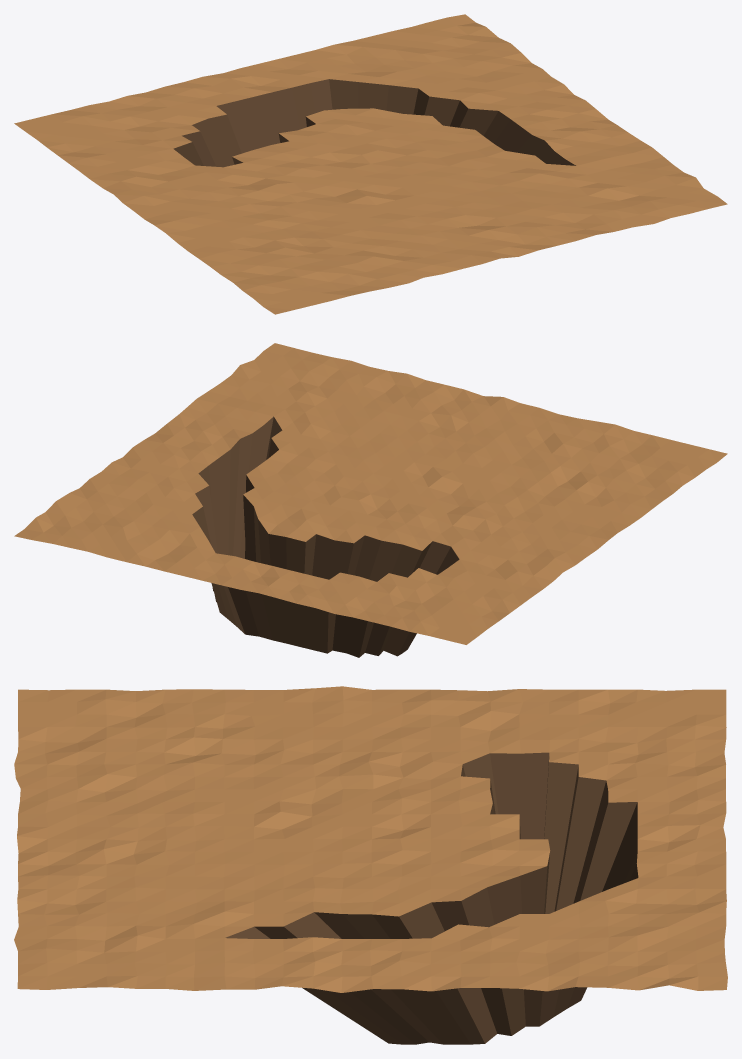
The model's file is Demo Desert.fbx.
3 renders of one model, top to bottom at view 1: azimuth 30°, elevation 25°; view 2: azimuth 150°, elevation 25°; view 3: azimuth 270°, elevation 25°, orthographic. The views are drawn at different scales.
Visible parts, largest first — view 1: Demo Desert; view 2: Demo Desert; view 3: Demo Desert.
Boxes of the visible parts, x1,y1,x2,y2 form: Demo Desert: (14, 14, 727, 314); Demo Desert: (14, 343, 727, 657); Demo Desert: (14, 686, 727, 1044).
Size of the model in its own units: 2515 by 522 by 2521.
